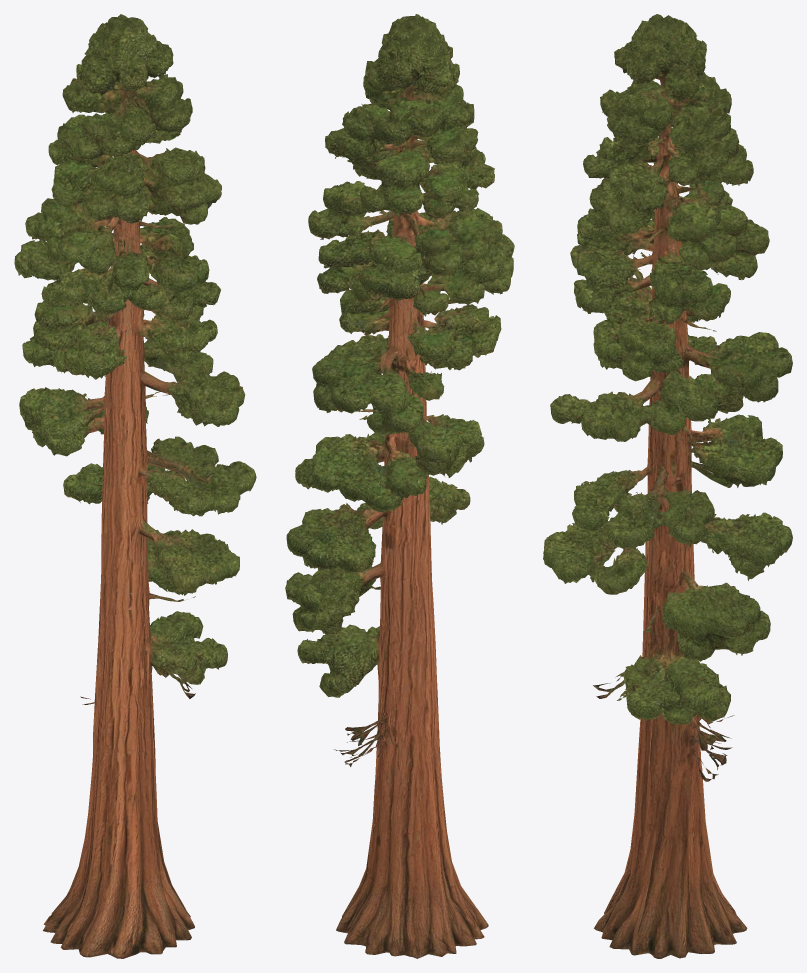
The model's file is redwood-hq.glb.
The picture shows the model from 3 angles, left to right: view 1: azimuth 30°, elevation 25°; view 2: azimuth 150°, elevation 25°; view 3: azimuth 270°, elevation 25°; orthographic projection.
Bounding box in the file's own units: 0.4387 × 1.9 × 0.4725.
Materials: 1 (1 with a texture image).
